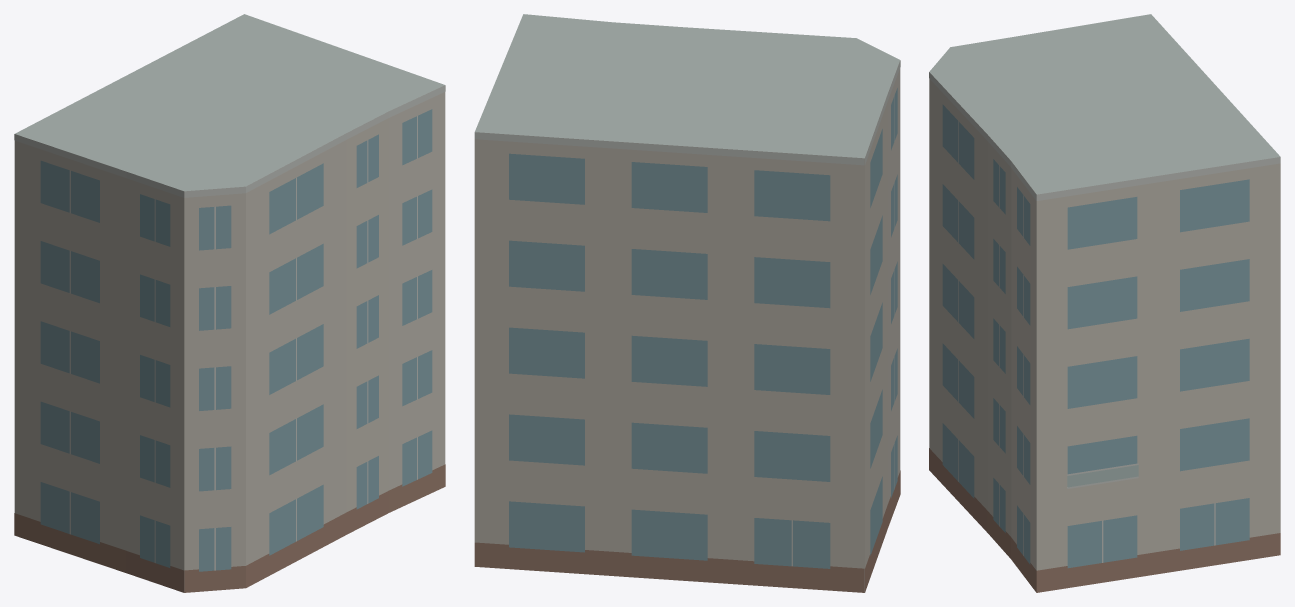
Rendered from survey-upis-32863595.glb.
The picture shows the model from 3 angles, left to right: view 1: azimuth 30°, elevation 25°; view 2: azimuth 150°, elevation 25°; view 3: azimuth 270°, elevation 25°; orthographic projection. The views are drawn at different scales.
Parts seen in each view (by area): view 1: survey-upis-32863595.tmp; view 2: survey-upis-32863595.tmp; view 3: survey-upis-32863595.tmp.
Part boxes in pixels (left/top/right/bottom): survey-upis-32863595.tmp: left=14, top=14, right=445, bottom=592; survey-upis-32863595.tmp: left=474, top=14, right=900, bottom=592; survey-upis-32863595.tmp: left=929, top=14, right=1280, bottom=592.
Size of the model in its own units: 14.5 by 14.9 by 11.93.
